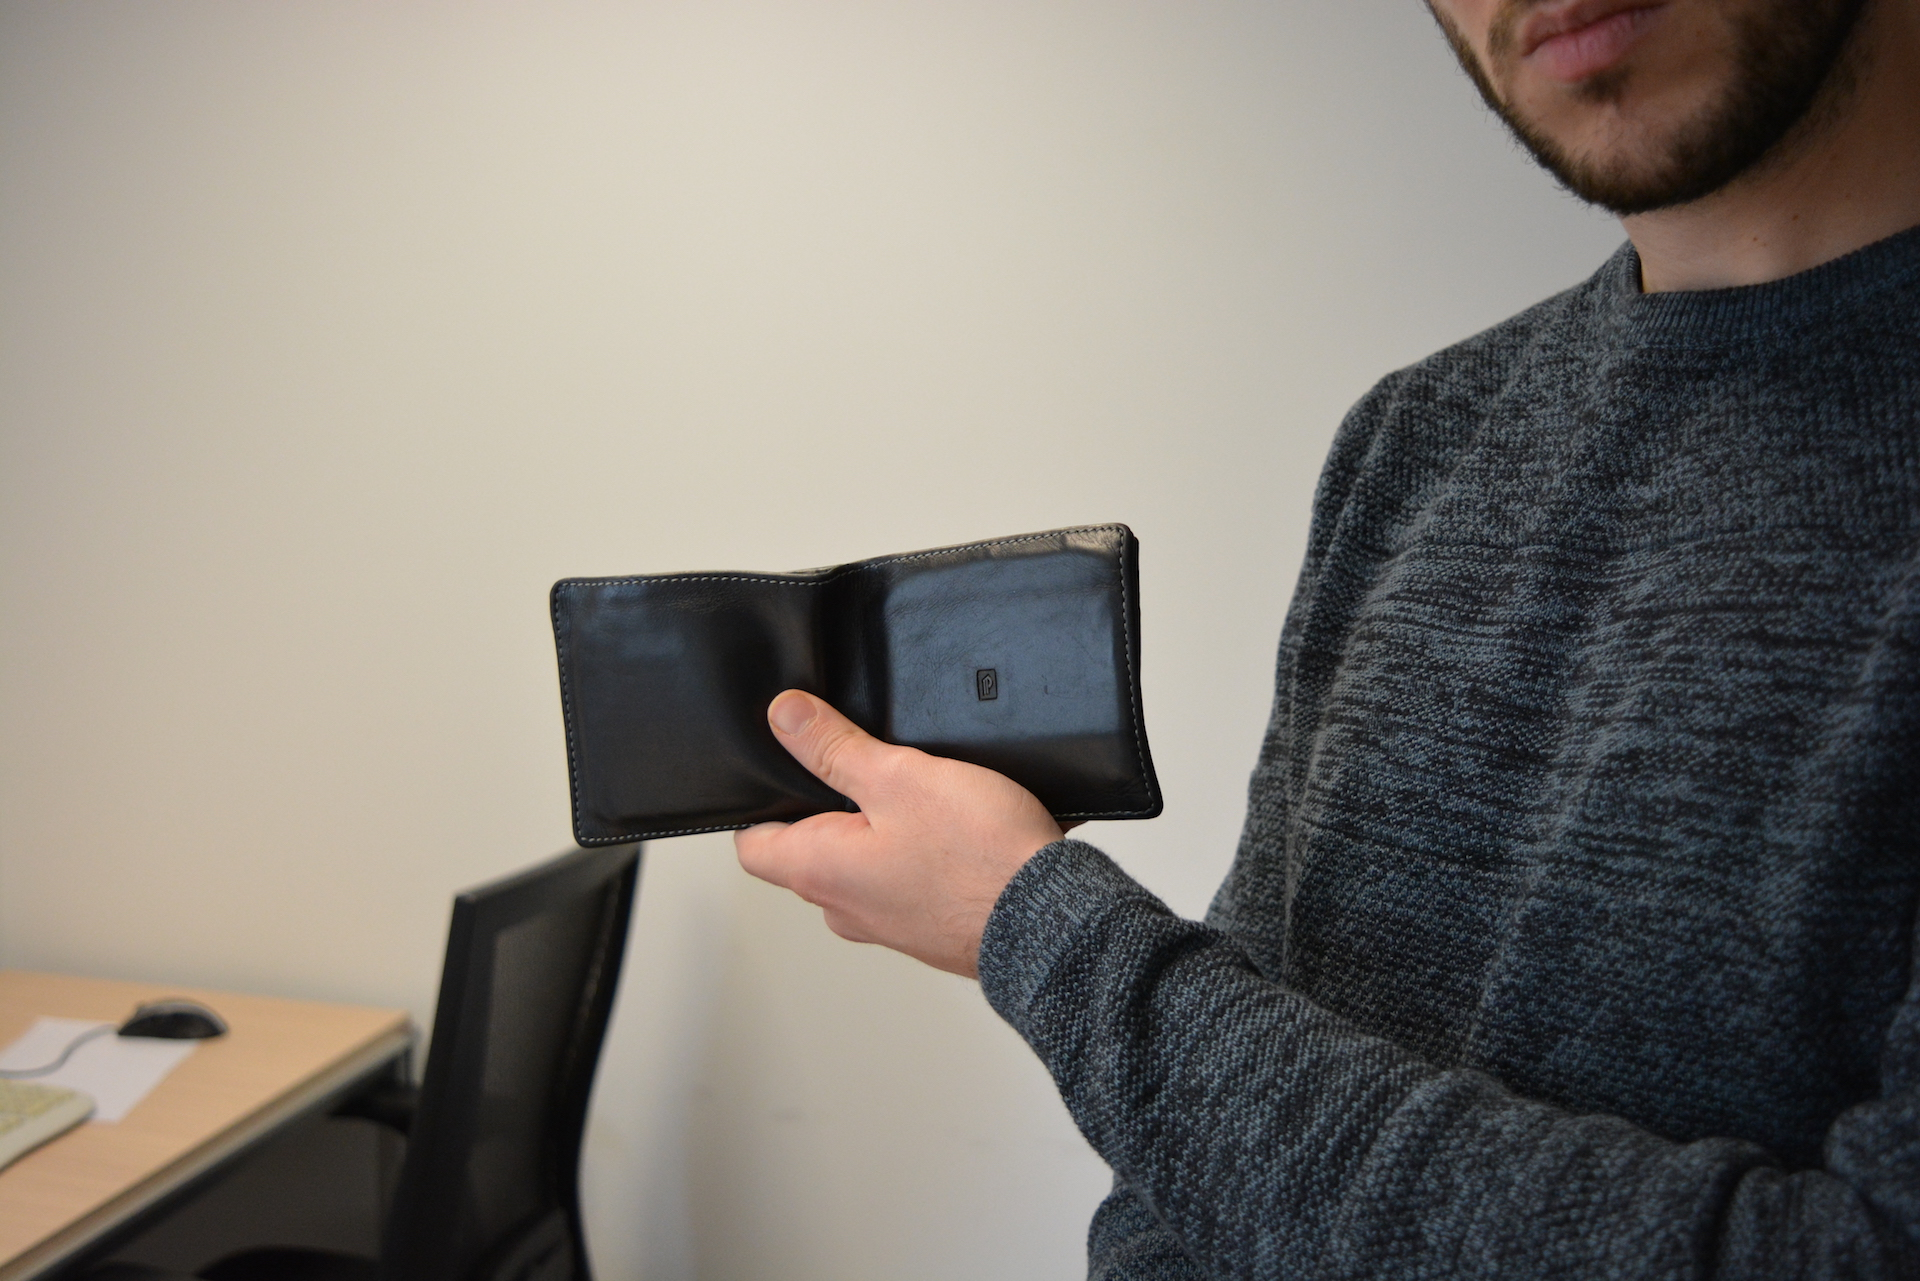monedero: (548, 520, 1167, 851)
